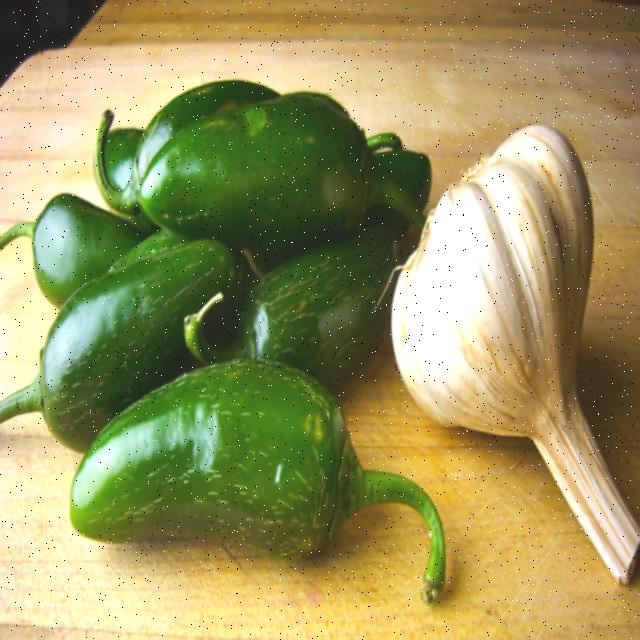Chili Pepper: (49, 364, 456, 609), (28, 229, 251, 427), (142, 89, 403, 254)
Garlic: (388, 140, 626, 510)
